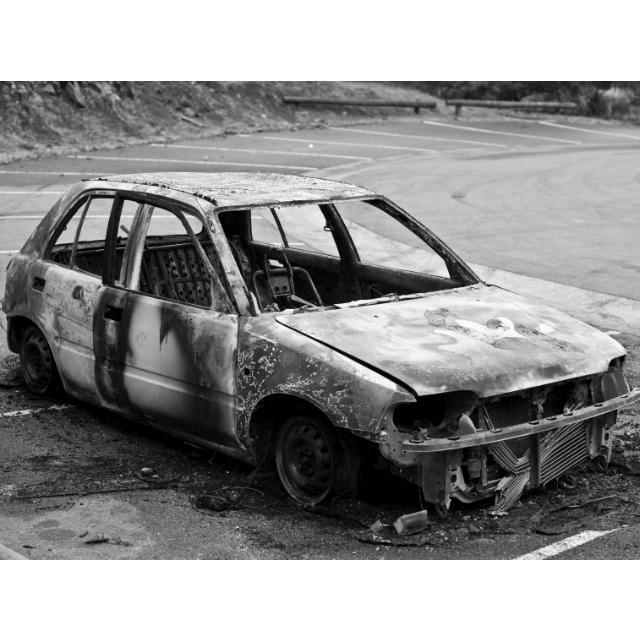Front-windscreen-damage: (219, 204, 461, 304)
Headlight-damage: (393, 387, 478, 448), (603, 354, 633, 405)
front-bumper-dent: (396, 435, 550, 522), (553, 413, 624, 476)
